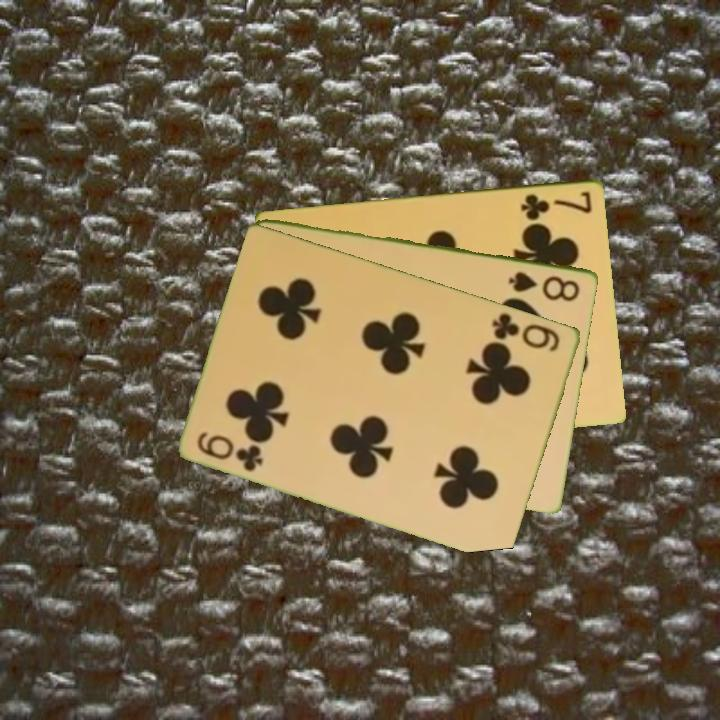6c: (488, 309, 564, 355), (194, 427, 267, 474)
7c: (517, 187, 595, 222)
8s: (505, 268, 583, 304)
